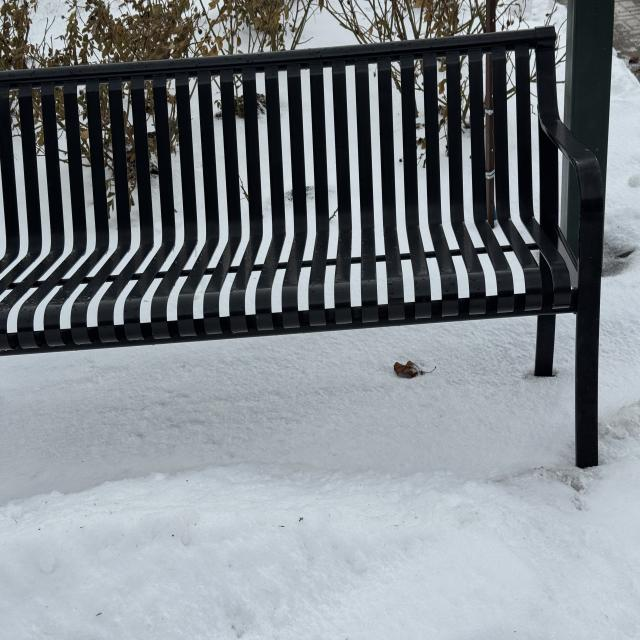Bench: (3, 20, 615, 466)
